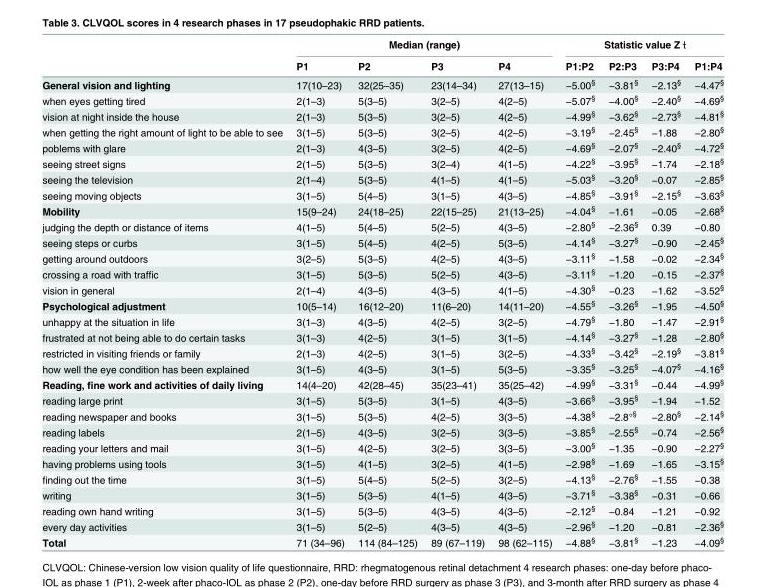table: (36, 36, 723, 548)
table column: (36, 36, 288, 548), (350, 36, 423, 548), (490, 36, 558, 548), (423, 36, 490, 548), (288, 36, 350, 548), (558, 36, 601, 548), (601, 36, 644, 548), (644, 36, 687, 548), (687, 36, 723, 548)
table column header: (36, 36, 723, 74)
table row: (36, 54, 723, 74), (36, 36, 723, 54), (36, 74, 723, 91), (36, 91, 723, 107), (36, 107, 723, 123), (36, 123, 723, 139), (36, 154, 723, 170), (36, 170, 723, 186), (36, 186, 723, 202), (36, 202, 723, 218), (36, 233, 723, 249), (36, 249, 723, 265), (36, 265, 723, 281), (36, 296, 723, 312), (36, 312, 723, 328), (36, 328, 723, 344), (36, 344, 723, 360), (36, 375, 723, 391), (36, 391, 723, 407), (36, 407, 723, 423), (36, 423, 723, 439), (36, 454, 723, 470), (36, 470, 723, 486), (36, 486, 723, 502), (36, 517, 723, 533), (36, 139, 723, 154), (36, 218, 723, 233), (36, 281, 723, 296), (36, 360, 723, 375), (36, 439, 723, 454), (36, 502, 723, 517), (36, 533, 723, 548)
table spanning cell: (288, 36, 558, 54), (558, 36, 723, 54)
